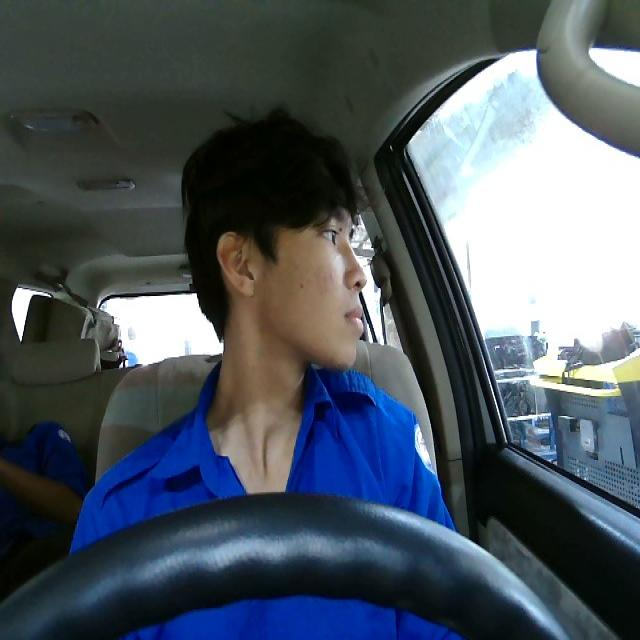seeing_right: (213, 196, 368, 371)
